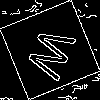W: (25, 25, 85, 86)
